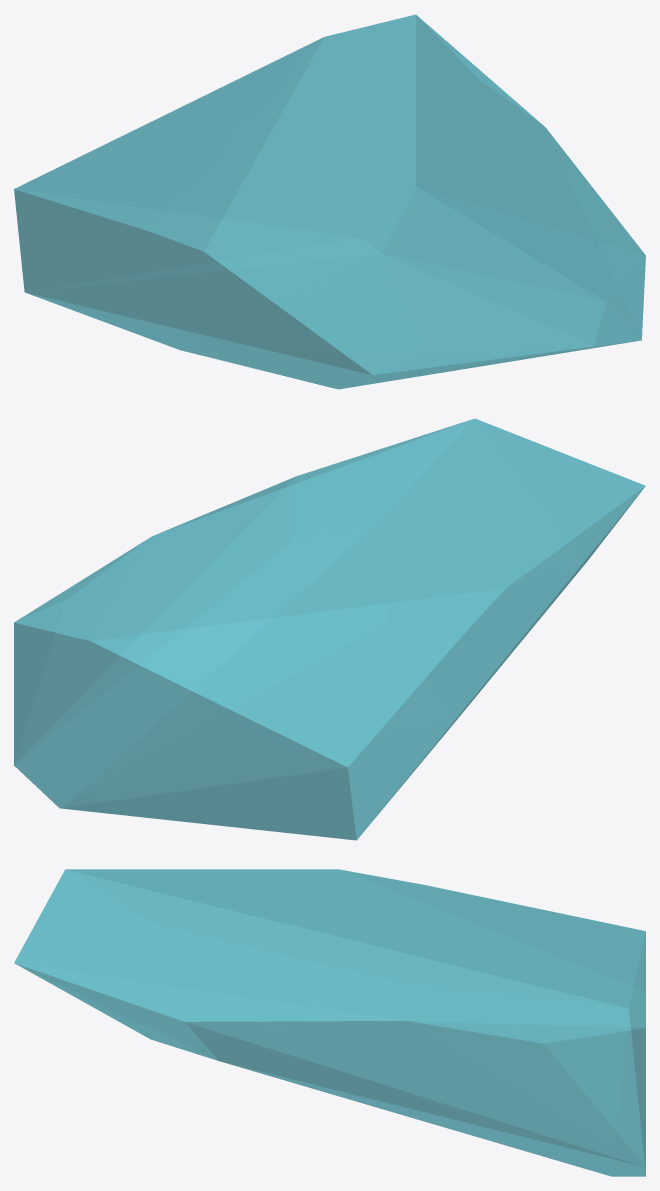
The picture shows the model from 3 angles, top to bottom: view 1: azimuth 30°, elevation 25°; view 2: azimuth 150°, elevation 25°; view 3: azimuth 270°, elevation 25°; orthographic projection. The views are drawn at different scales.
Visible parts, largest first — view 1: Shape_IndexedFaceSet.031_Shape_IndexedFaceSet.629; view 2: Shape_IndexedFaceSet.031_Shape_IndexedFaceSet.629; view 3: Shape_IndexedFaceSet.031_Shape_IndexedFaceSet.629.
Part boxes in pixels (left/top/right/bottom): Shape_IndexedFaceSet.031_Shape_IndexedFaceSet.629: left=14, top=14, right=645, bottom=389; Shape_IndexedFaceSet.031_Shape_IndexedFaceSet.629: left=14, top=418, right=645, bottom=840; Shape_IndexedFaceSet.031_Shape_IndexedFaceSet.629: left=14, top=869, right=645, bottom=1176.
Bounding box in the file's own units: 0.041 × 0.0205 × 0.0689.
